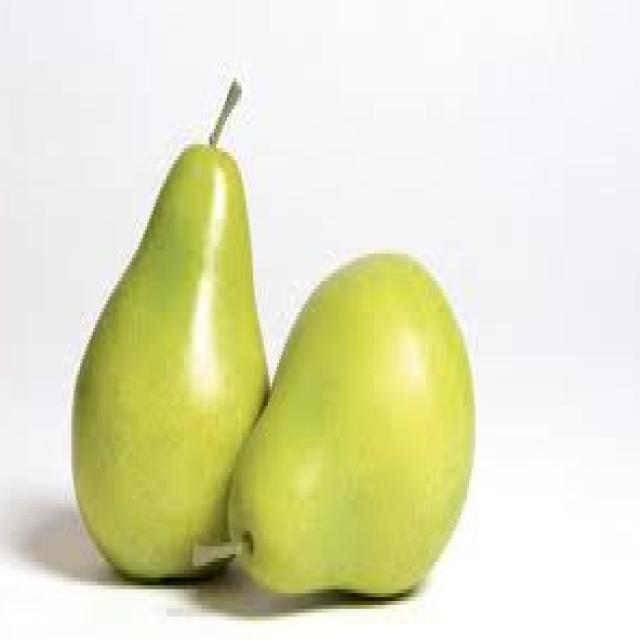pear: (56, 54, 493, 608)
